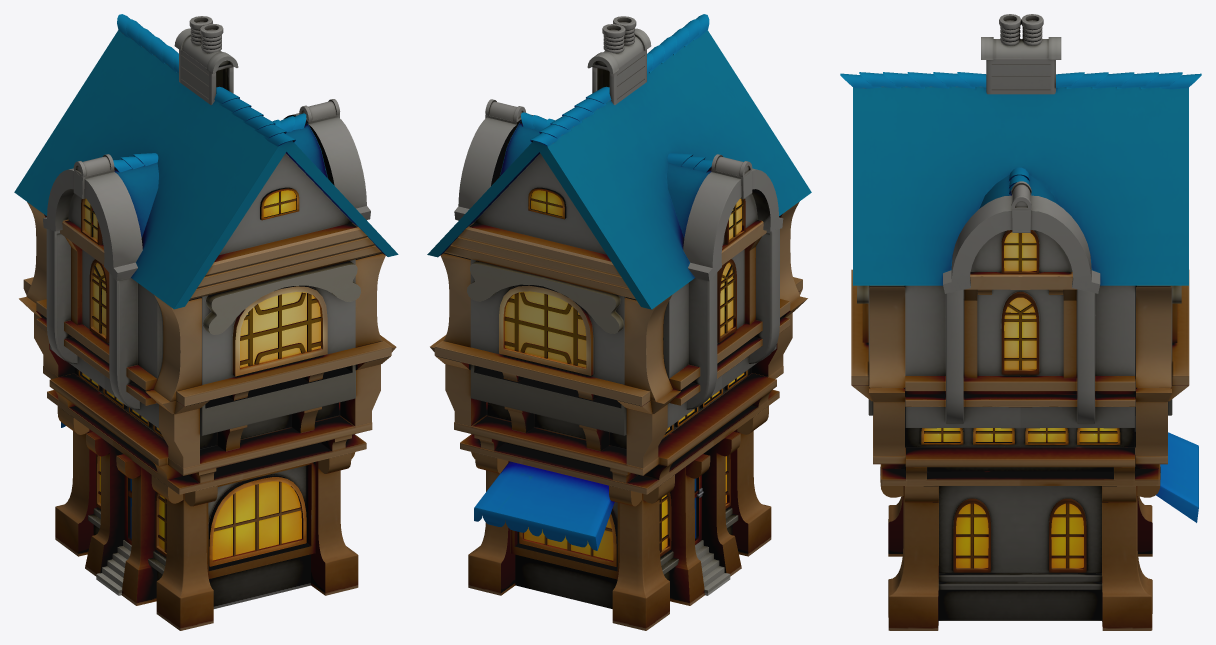
File: house.glb
The picture shows the model from 3 angles, left to right: view 1: azimuth 30°, elevation 25°; view 2: azimuth 150°, elevation 25°; view 3: azimuth 270°, elevation 25°; orthographic projection. The views are drawn at different scales.
Visible parts, largest first — view 1: Object_6, Object_3, Object_4, Object_5; view 2: Object_6, Object_3, Object_4, Object_5; view 3: Object_6, Object_3, Object_5, Object_4.
Part boxes in pixels (left/top/right/bottom): Object_6: left=19, top=14, right=395, bottom=630; Object_3: left=14, top=30, right=398, bottom=595; Object_4: left=23, top=16, right=396, bottom=605; Object_5: left=24, top=17, right=391, bottom=595; Object_6: left=430, top=14, right=807, bottom=630; Object_3: left=427, top=30, right=811, bottom=595; Object_4: left=430, top=16, right=802, bottom=605; Object_5: left=435, top=17, right=802, bottom=595; Object_6: left=840, top=19, right=1201, bottom=630; Object_3: left=853, top=64, right=1188, bottom=630; Object_5: left=851, top=15, right=1198, bottom=620; Object_4: left=851, top=14, right=1198, bottom=526.
Bounding box in the file's own units: 1.16 × 2.32 × 1.34.
1 material, 1 textured.
